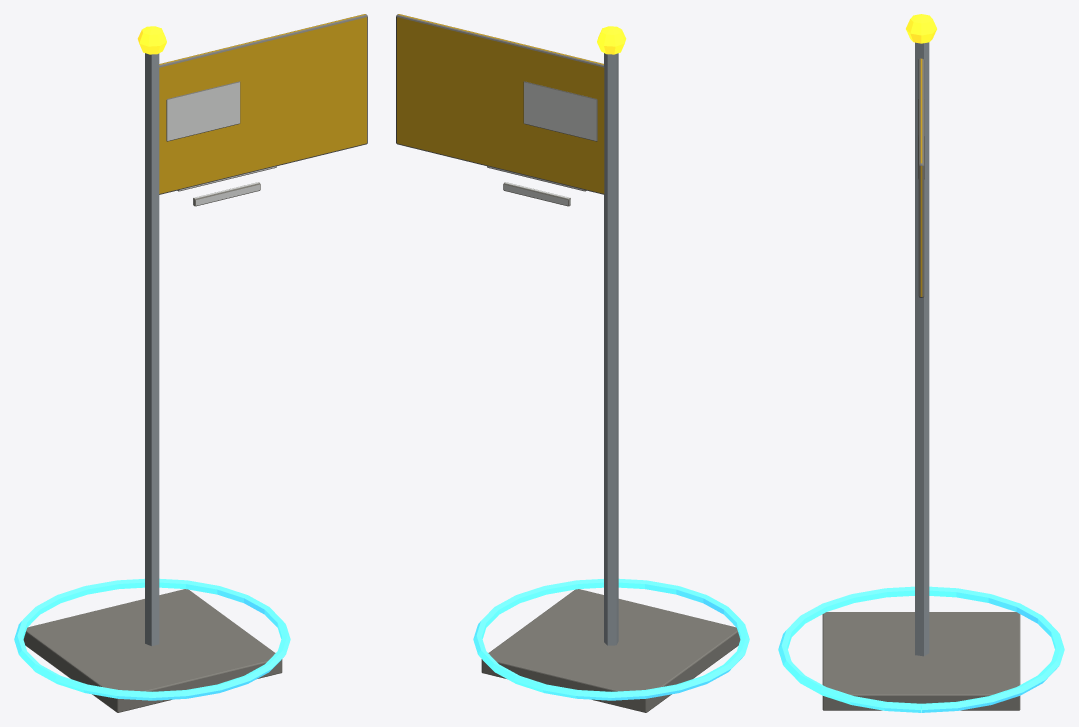
The model's file is prp_team_flag.glb.
The picture shows the model from 3 angles, left to right: view 1: azimuth 30°, elevation 25°; view 2: azimuth 150°, elevation 25°; view 3: azimuth 270°, elevation 25°; orthographic projection. The views are drawn at different scales.
Parts seen in each view (by area): view 1: prp_team_flag; view 2: prp_team_flag; view 3: prp_team_flag.
Part boxes in pixels (<box>): prp_team_flag: <box>14,14,367,712</box>; prp_team_flag: <box>396,14,749,712</box>; prp_team_flag: <box>778,14,1064,712</box>.
Bounding box in the file's own units: 4.05 × 7.31 × 2.9.
